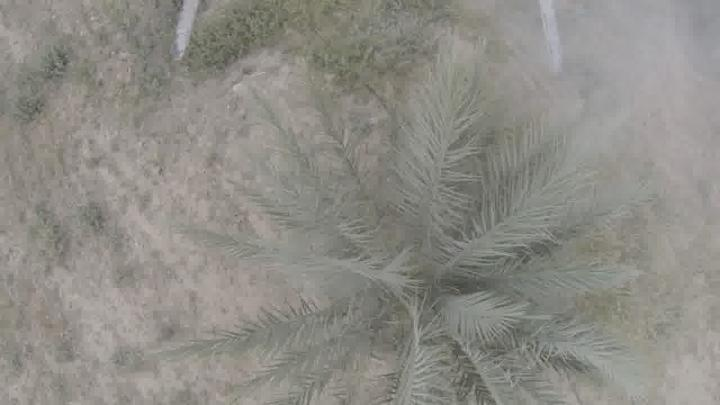Date-Palm-Crown: (299, 126, 563, 388)
